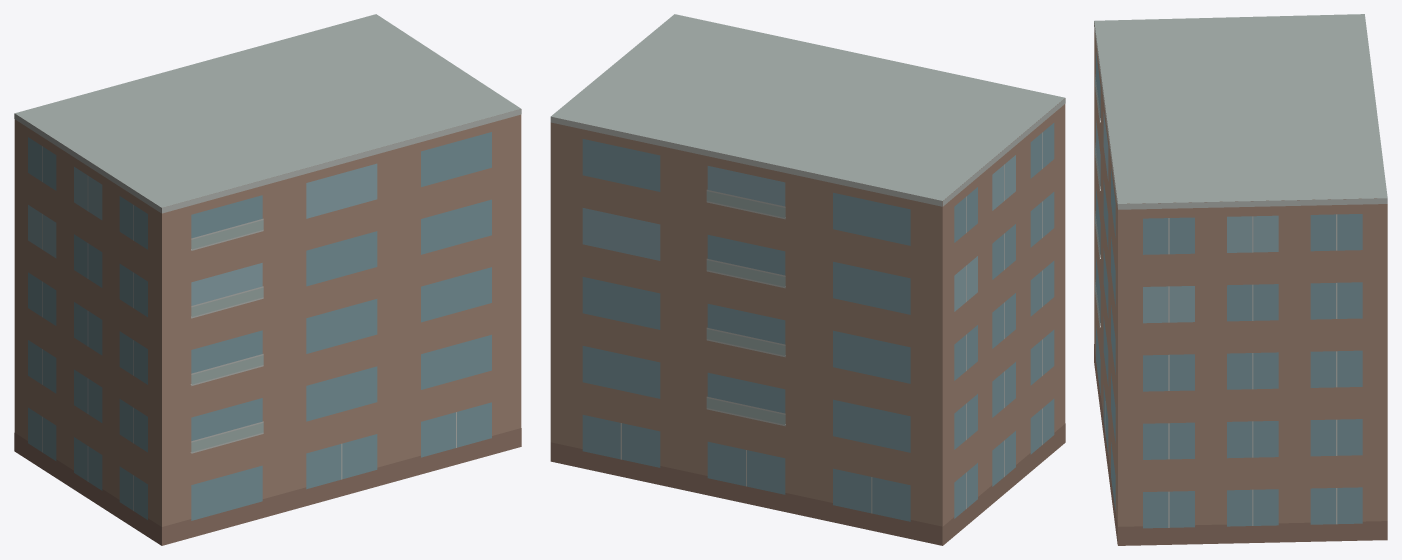
The model's file is survey-upis-33039505.glb.
3 views of the same model, side by side, from view 1: azimuth 30°, elevation 25°; view 2: azimuth 150°, elevation 25°; view 3: azimuth 270°, elevation 25° (orthographic). The views are drawn at different scales.
Parts seen in each view (by area): view 1: survey-upis-33039505.tmp; view 2: survey-upis-33039505.tmp; view 3: survey-upis-33039505.tmp.
Part boxes in pixels (x1,y1,x2,y2): survey-upis-33039505.tmp: (14,14,521,545); survey-upis-33039505.tmp: (550,14,1065,545); survey-upis-33039505.tmp: (1094,14,1387,545).
Bounding box in the file's own units: 17.19 × 14.42 × 11.23.
